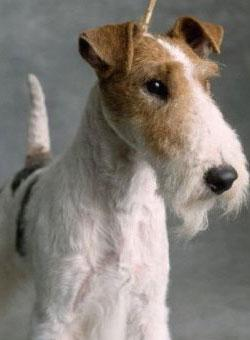wire-haired_fox_terrier: (0, 14, 248, 339)
